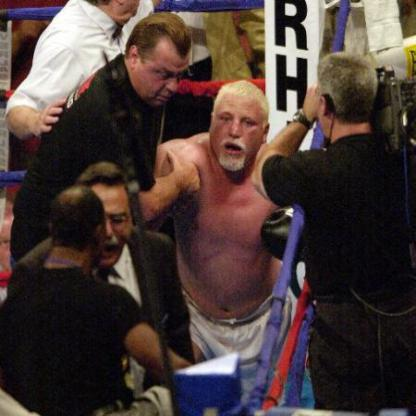face: (77, 170, 133, 269), (212, 81, 267, 174), (137, 32, 192, 113)
